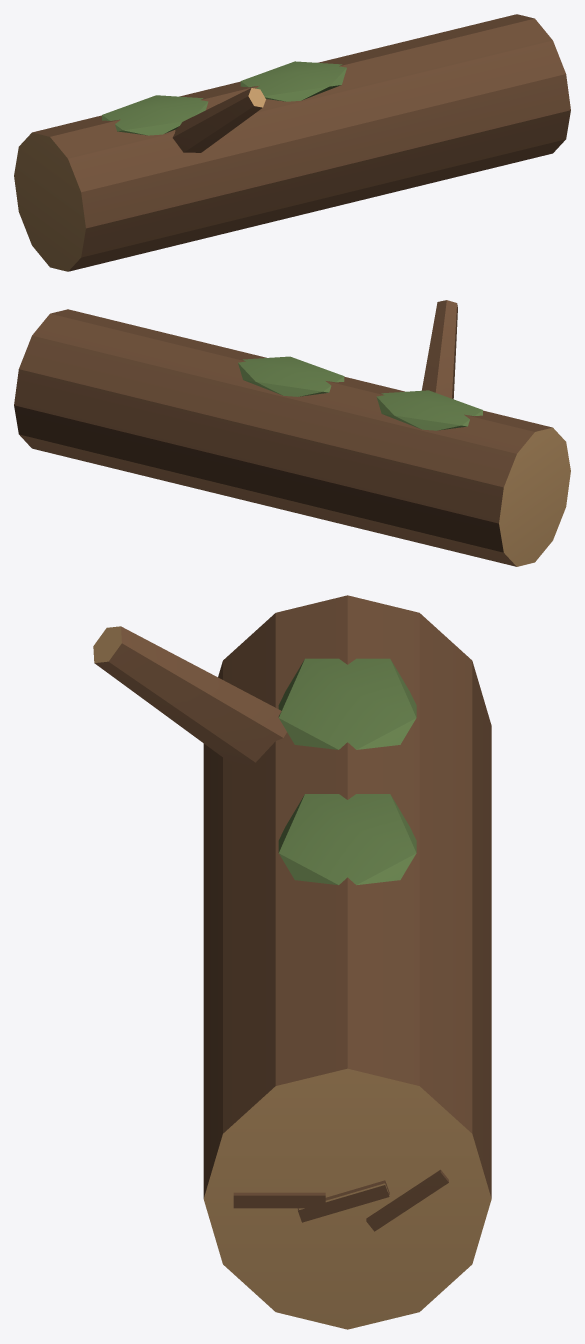
The model's file is fallen_log_b.glb.
3 renders of one model, top to bottom at view 1: azimuth 30°, elevation 25°; view 2: azimuth 150°, elevation 25°; view 3: azimuth 270°, elevation 25°, orthographic. The views are drawn at different scales.
Visible parts, largest first — view 1: fallen_log_b; view 2: fallen_log_b; view 3: fallen_log_b.
Part boxes in pixels (left/top/right/bottom): fallen_log_b: left=14, top=14, right=570, bottom=271; fallen_log_b: left=14, top=300, right=570, bottom=566; fallen_log_b: left=93, top=595, right=491, bottom=1329.
Bounding box in the file's own units: 2.83 × 1.02 × 0.9957.
